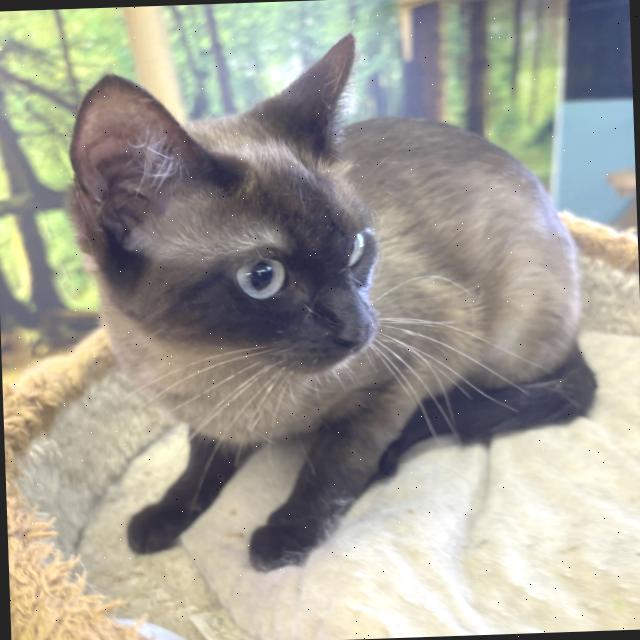siamese_cat: (64, 26, 401, 397)
